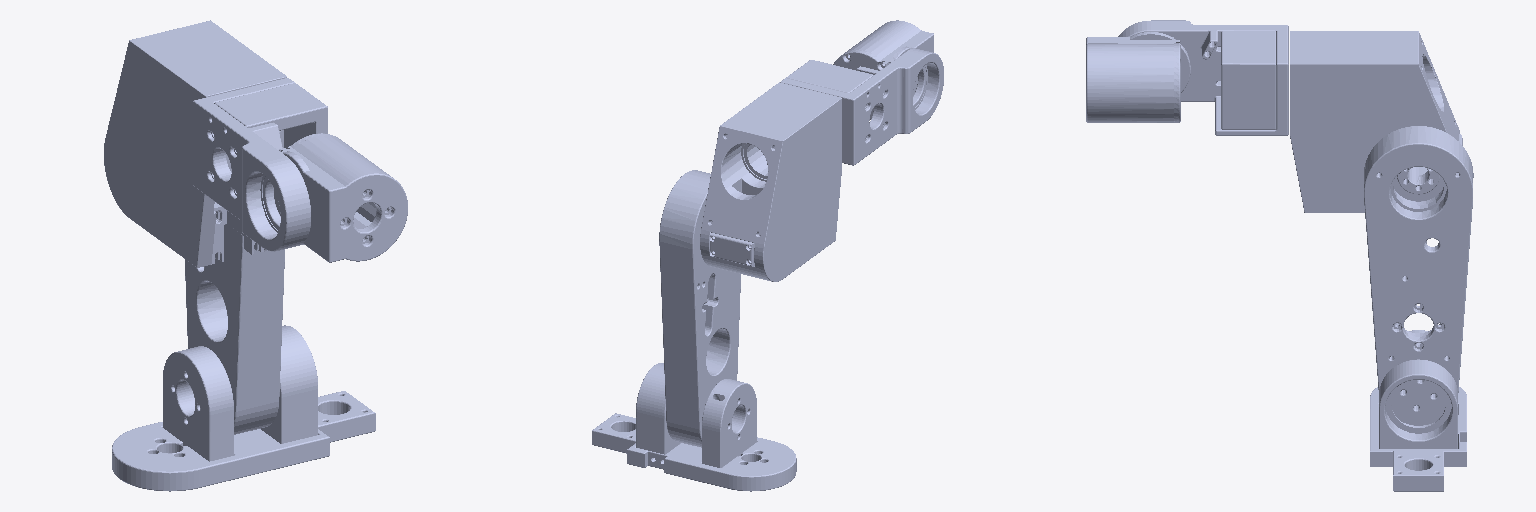
The robot description file, URDF, robot "robot_arm.SLDASM":
<?xml version="1.0" encoding="utf-8"?>
<!-- This URDF was automatically created by SolidWorks to URDF Exporter! Originally created by [author] ([email redacted]) 
     Commit Version: 1.6.0-4-g7f85cfe  Build Version: 1.6.7995.38578
     For more information, please see http://wiki.ros.org/sw_urdf_exporter -->
<robot
  name="robot_arm.SLDASM">
  <link
    name="shoulder_link">
    <inertial>
      <origin
        xyz="0.048313 -0.00029727 0.021059"
        rpy="0 0 0" />
      <mass
        value="0.2852" />
      <inertia
        ixx="0.00018494"
        ixy="1.9606E-06"
        ixz="6.6547E-07"
        iyy="0.00045611"
        iyz="4.7137E-07"
        izz="0.00052794" />
    </inertial>
    <visual>
      <origin
        xyz="0 0 0"
        rpy="0 0 0" />
      <geometry>
        <mesh
          filename="package://robot_arm.SLDASM/meshes/shoulder_link.STL" />
      </geometry>
      <material
        name="">
        <color
          rgba="0.79216 0.81961 0.93333 1" />
      </material>
    </visual>
    <collision>
      <origin
        xyz="0 0 0"
        rpy="0 0 0" />
      <geometry>
        <mesh
          filename="package://robot_arm.SLDASM/meshes/shoulder_link.STL" />
      </geometry>
    </collision>
  </link>
  <link
    name="upperarm_link">
    <inertial>
      <origin
        xyz="-0.0477 -0.00051341 0.098804"
        rpy="0 0 0" />
      <mass
        value="0.53985" />
      <inertia
        ixx="0.0030659"
        ixy="-1.3602E-06"
        ixz="2.5918E-06"
        iyy="0.0028126"
        iyz="3.6998E-06"
        izz="0.00036425" />
    </inertial>
    <visual>
      <origin
        xyz="0 0 0"
        rpy="0 0 0" />
      <geometry>
        <mesh
          filename="package://robot_arm.SLDASM/meshes/upperarm_link.STL" />
      </geometry>
      <material
        name="">
        <color
          rgba="0.79216 0.81961 0.93333 1" />
      </material>
    </visual>
    <collision>
      <origin
        xyz="0 0 0"
        rpy="0 0 0" />
      <geometry>
        <mesh
          filename="package://robot_arm.SLDASM/meshes/upperarm_link.STL" />
      </geometry>
    </collision>
  </link>
  <joint
    name="shoulder_joint"
    type="continuous">
    <origin
      xyz="0.099 5.5105E-05 0.0495"
      rpy="0 0 0" />
    <parent
      link="shoulder_link" />
    <child
      link="upperarm_link" />
    <axis
      xyz="-1 0 0" />
  </joint>
  <link
    name="forearm_link">
    <inertial>
      <origin
        xyz="0.0323163826057909 -0.0342521498357514 0.0290643523408674"
        rpy="0 0 0" />
      <mass
        value="0.710086306476877" />
      <inertia
        ixx="0.0018701335963317"
        ixy="4.02022046039309E-06"
        ixz="-4.50731120991758E-06"
        iyy="0.00138346884758172"
        iyz="0.000230017841525673"
        izz="0.0011441684244926" />
    </inertial>
    <visual>
      <origin
        xyz="0 0 0"
        rpy="0 0 0" />
      <geometry>
        <mesh
          filename="package://robot_arm.SLDASM/meshes/forearm_link.STL" />
      </geometry>
      <material
        name="">
        <color
          rgba="0.792156862745098 0.819607843137255 0.933333333333333 1" />
      </material>
    </visual>
    <collision>
      <origin
        xyz="0 0 0"
        rpy="0 0 0" />
      <geometry>
        <mesh
          filename="package://robot_arm.SLDASM/meshes/forearm_link.STL" />
      </geometry>
    </collision>
  </link>
  <joint
    name="elbow_joint"
    type="continuous">
    <origin
      xyz="-0.1315 0 0.18173"
      rpy="0 0 0" />
    <parent
      link="upperarm_link" />
    <child
      link="forearm_link" />
    <axis
      xyz="-1 0 0" />
  </joint>
  <link
    name="wrist_turn_link">
    <inertial>
      <origin
        xyz="-0.0160659421843786 -0.164990696721511 0.00133880266500591"
        rpy="0 0 0" />
      <mass
        value="0.202928307735687" />
      <inertia
        ixx="0.000380803246742115"
        ixy="-8.66361281743901E-05"
        ixz="2.22902076907321E-05"
        iyy="0.000180195203933524"
        iyz="9.05170151741001E-06"
        izz="0.000394041580870373" />
    </inertial>
    <visual>
      <origin
        xyz="0 0 0"
        rpy="0 0 0" />
      <geometry>
        <mesh
          filename="package://robot_arm.SLDASM/meshes/wrist_turn_link.STL" />
      </geometry>
      <material
        name="">
        <color
          rgba="0.792156862745098 0.819607843137255 0.933333333333333 1" />
      </material>
    </visual>
    <collision>
      <origin
        xyz="0 0 0"
        rpy="0 0 0" />
      <geometry>
        <mesh
          filename="package://robot_arm.SLDASM/meshes/wrist_turn_link.STL" />
      </geometry>
    </collision>
  </link>
  <joint
    name="wrist_turn"
    type="continuous">
    <origin
      xyz="0.0325 0.012143 0.0675"
      rpy="0 0 0" />
    <parent
      link="forearm_link" />
    <child
      link="wrist_turn_link" />
    <axis
      xyz="0 1 0" />
  </joint>
  <link
    name="wrist_tilt_link">
    <inertial>
      <origin
        xyz="0.0521007325406729 -0.0154119081022636 -1.91718344977332E-07"
        rpy="0 0 0" />
      <mass
        value="0.12185198168618" />
      <inertia
        ixx="0.000106316862410579"
        ixy="9.5504040568459E-07"
        ixz="-5.90823308399403E-10"
        iyy="9.80062751348337E-05"
        iyz="4.16147124606563E-10"
        izz="0.000102272747310415" />
    </inertial>
    <visual>
      <origin
        xyz="0 0 0"
        rpy="0 0 0" />
      <geometry>
        <mesh
          filename="package://robot_arm.SLDASM/meshes/wrist_tilt_link.STL" />
      </geometry>
      <material
        name="">
        <color
          rgba="0.792156862745098 0.819607843137255 0.933333333333333 1" />
      </material>
    </visual>
    <collision>
      <origin
        xyz="0 0 0"
        rpy="0 0 0" />
      <geometry>
        <mesh
          filename="package://robot_arm.SLDASM/meshes/wrist_tilt_link.STL" />
      </geometry>
    </collision>
  </link>
  <joint
    name="wrist_tilt_joint"
    type="continuous">
    <origin
      xyz="-0.0525 -0.23103 0"
      rpy="0 0 0" />
    <parent
      link="wrist_turn_link" />
    <child
      link="wrist_tilt_link" />
    <axis
      xyz="1 0 0" />
  </joint>
</robot>

--- What the picture shows (computed from the rendered views, not written in the file) ---
3 views of the same robot in one strip: view 1: azimuth 30°, elevation 25°; view 2: azimuth 150°, elevation 25°; view 3: azimuth 270°, elevation 25° (orthographic).
Robot: robot_arm.SLDASM — 5 links, 4 joints (4 continuous); root link shoulder_link; default pose: every joint at zero.
Visible links, largest first — view 1: forearm_link, shoulder_link, wrist_turn_link, upperarm_link, wrist_tilt_link; view 2: forearm_link, upperarm_link, shoulder_link, wrist_turn_link, wrist_tilt_link; view 3: upperarm_link, forearm_link, wrist_turn_link, wrist_tilt_link, shoulder_link.
Boxes of the visible links, x1=… form: forearm_link: x1=104, y1=20, x2=286, y2=267; shoulder_link: x1=112, y1=325, x2=375, y2=491; wrist_turn_link: x1=193, y1=78, x2=327, y2=251; upperarm_link: x1=185, y1=224, x2=284, y2=434; wrist_tilt_link: x1=274, y1=133, x2=407, y2=262; forearm_link: x1=700, y1=82, x2=841, y2=281; upperarm_link: x1=659, y1=170, x2=740, y2=447; shoulder_link: x1=592, y1=363, x2=796, y2=491; wrist_turn_link: x1=780, y1=48, x2=943, y2=165; wrist_tilt_link: x1=833, y1=20, x2=933, y2=119; upperarm_link: x1=1364, y1=126, x2=1473, y2=425; forearm_link: x1=1290, y1=31, x2=1462, y2=212; wrist_turn_link: x1=1118, y1=20, x2=1288, y2=135; wrist_tilt_link: x1=1086, y1=32, x2=1190, y2=122; shoulder_link: x1=1370, y1=330, x2=1466, y2=491.
Bounding box of the posed robot: 0.2035 × 0.3168 × 0.3312 m (x, y, z).
Meshes: 5 distinct files referenced, 5 mesh visuals loaded (5 binary STL).